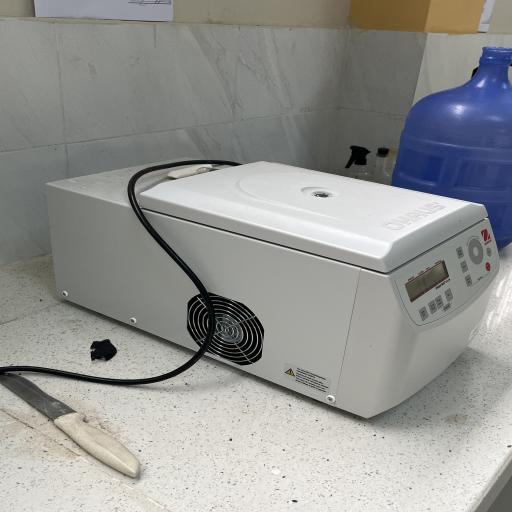Centrifuga_Ohaus_Frontier: (37, 134, 512, 432)
